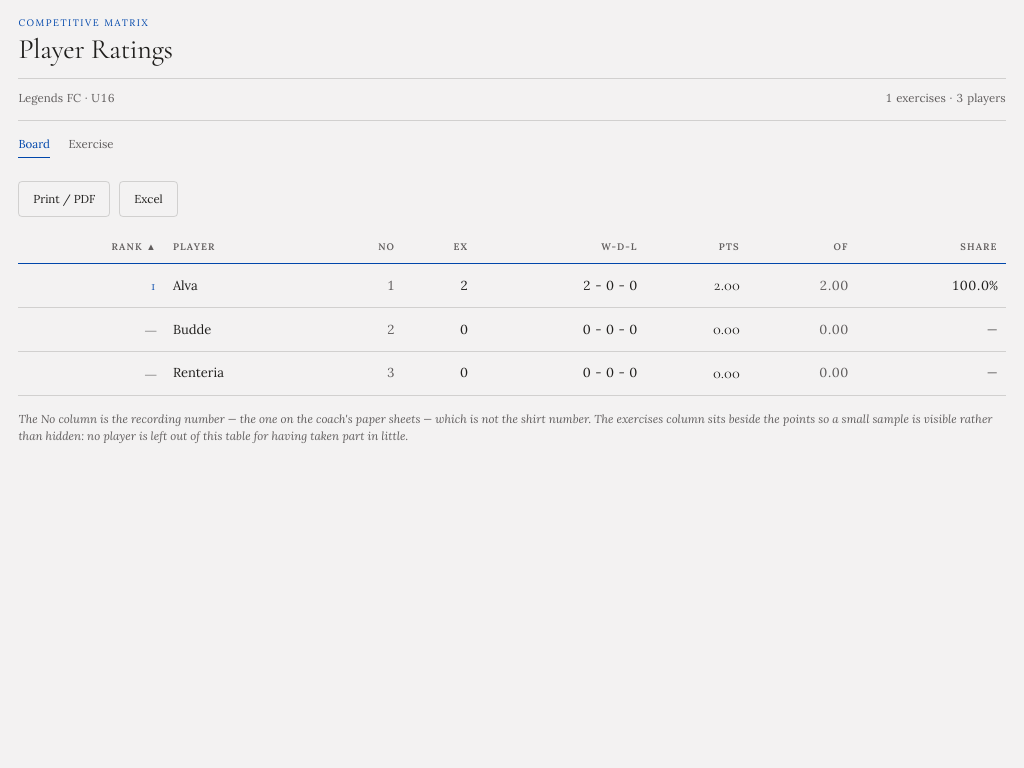
Test case: a fitness standard › says how many have not met it, never-run players included
Click the button "Exercise": (91, 146) [68,135,114,158]
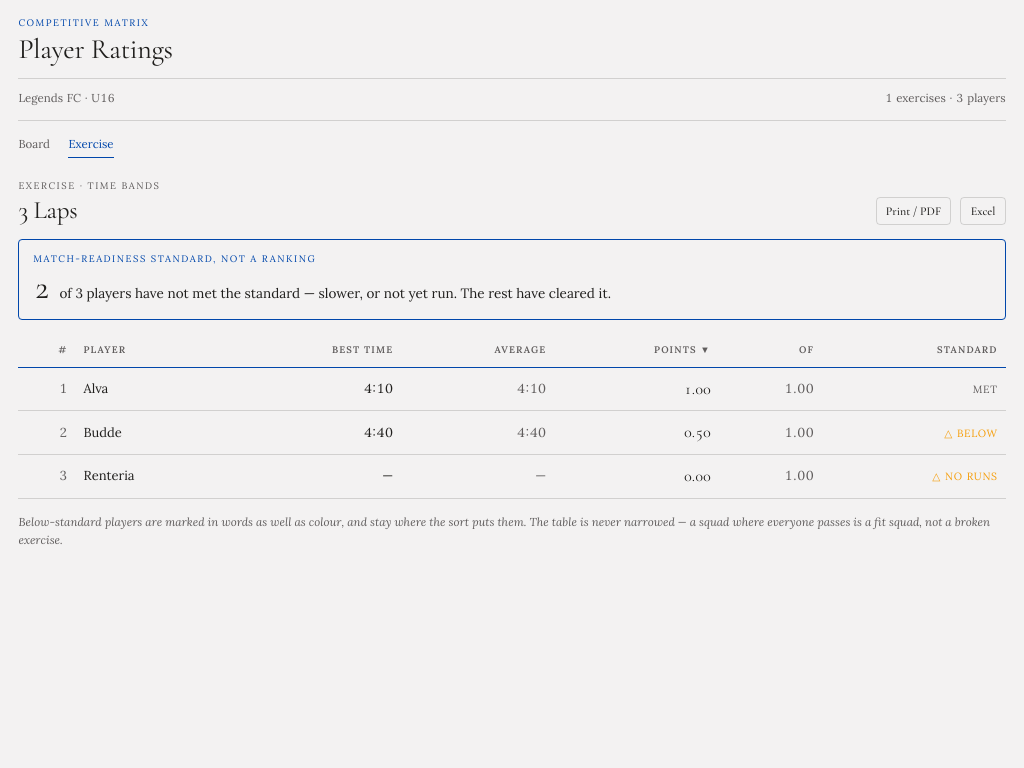
expect the element that starts with "Match-readiness standard, not a ranking" shows "2 of 3": met, box [18,239,1006,320]
